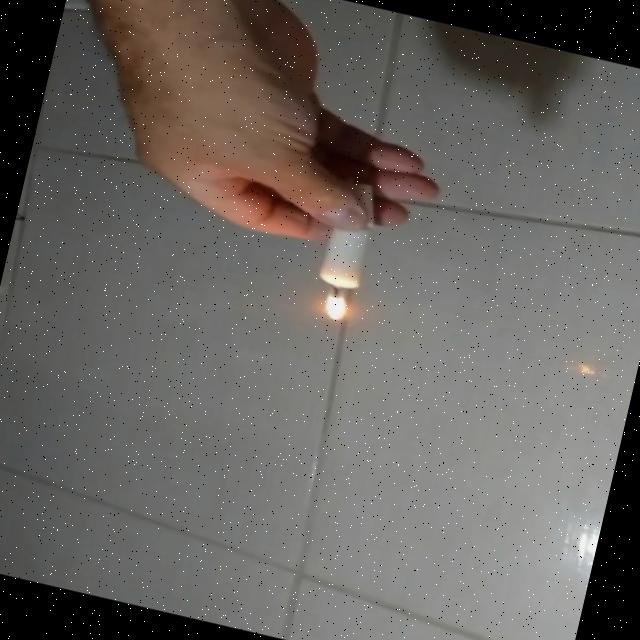fire: (315, 284, 355, 326)
